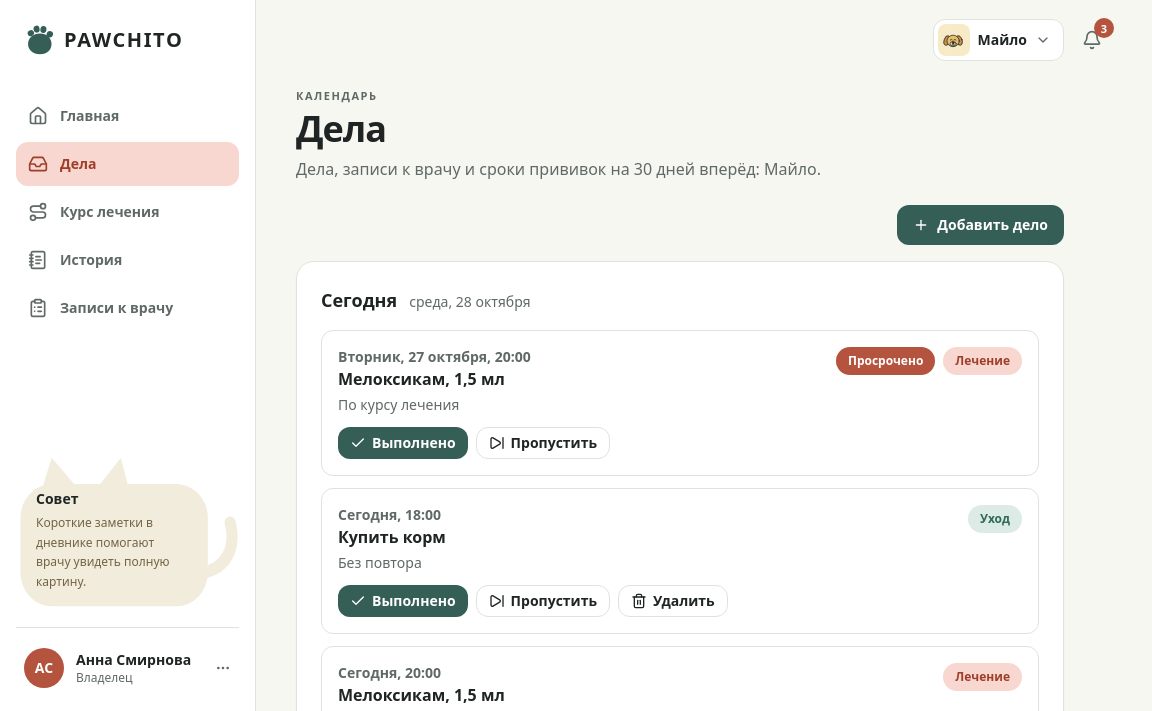
Scenario: TasksPage › «Выполнено» — одной кнопкой: дело уходит из «Сегодня», статус, фокус на календаре
Click the button named "Выполнено, Мелоксикам, 1,5 мл, вторник, 27 октября, 20:00": (403, 442) [338, 426, 468, 458]
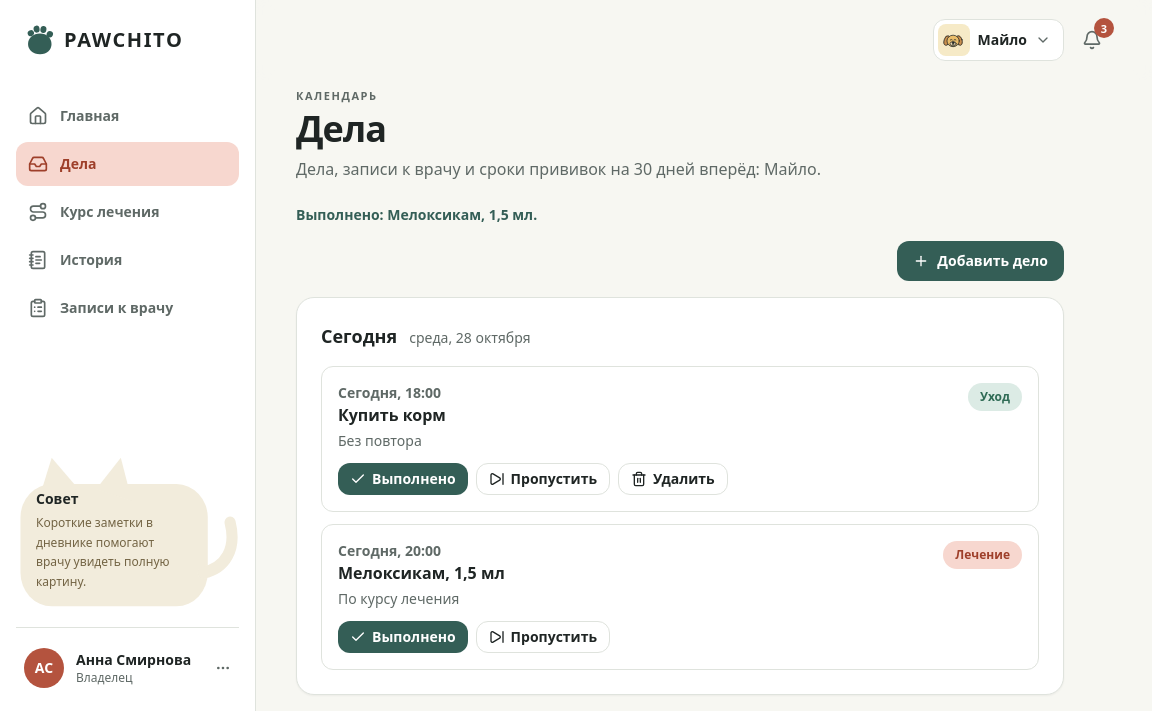
Expected: the text "Выполнено: Мелоксикам, 1,5 мл." is shown, [296, 204, 537, 224]
